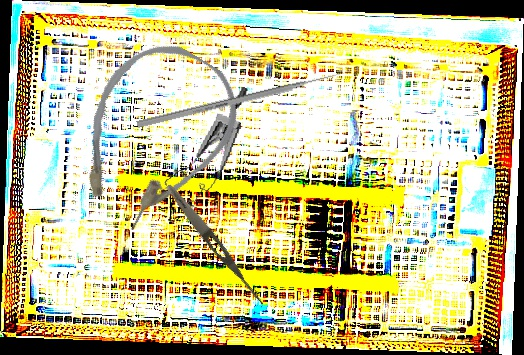Cannula: (49, 24, 257, 249)
Dressing Forceps: (162, 181, 269, 308)
Pusher: (136, 68, 348, 130)
Speculum: (159, 75, 251, 214)
